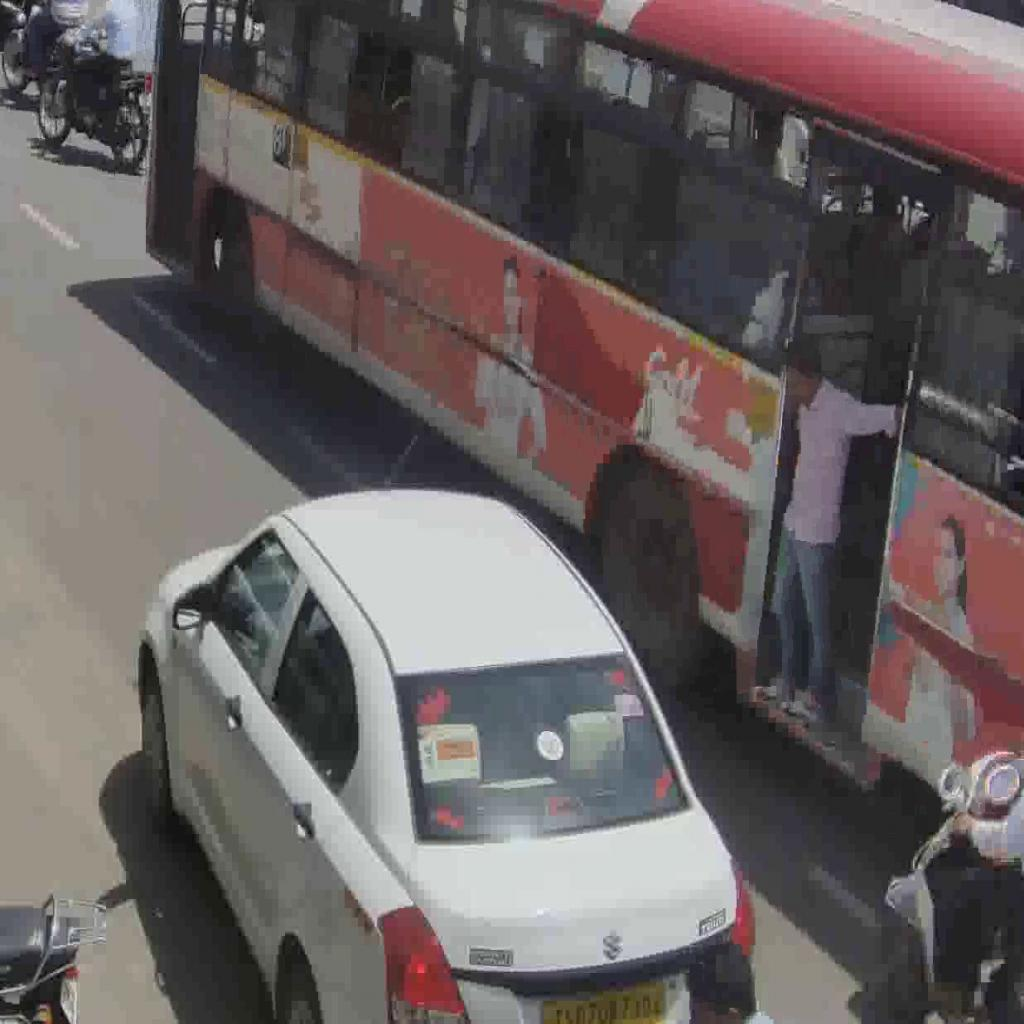helmet: (38, 29, 148, 167)
